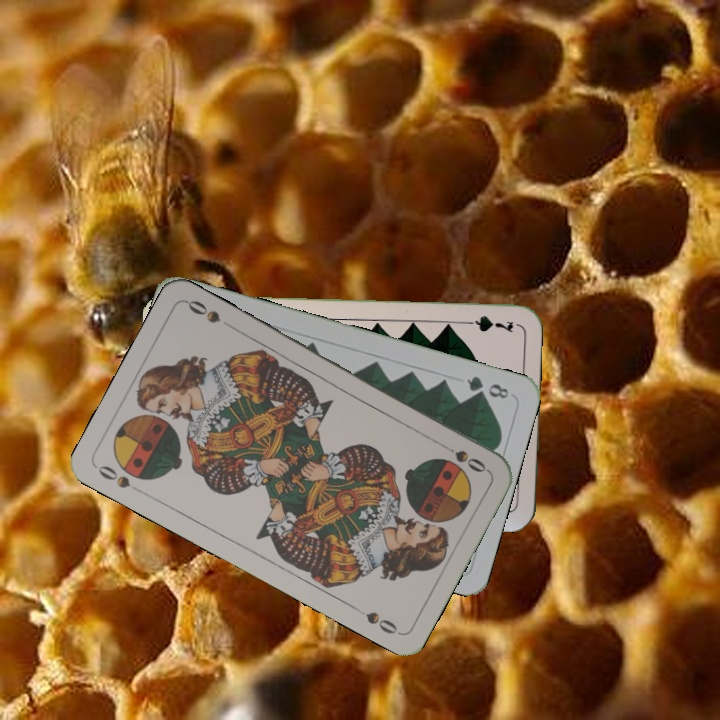G7: (457, 312, 516, 335)
G8: (462, 372, 512, 401)
SO: (436, 438, 490, 475), (94, 461, 133, 491)
